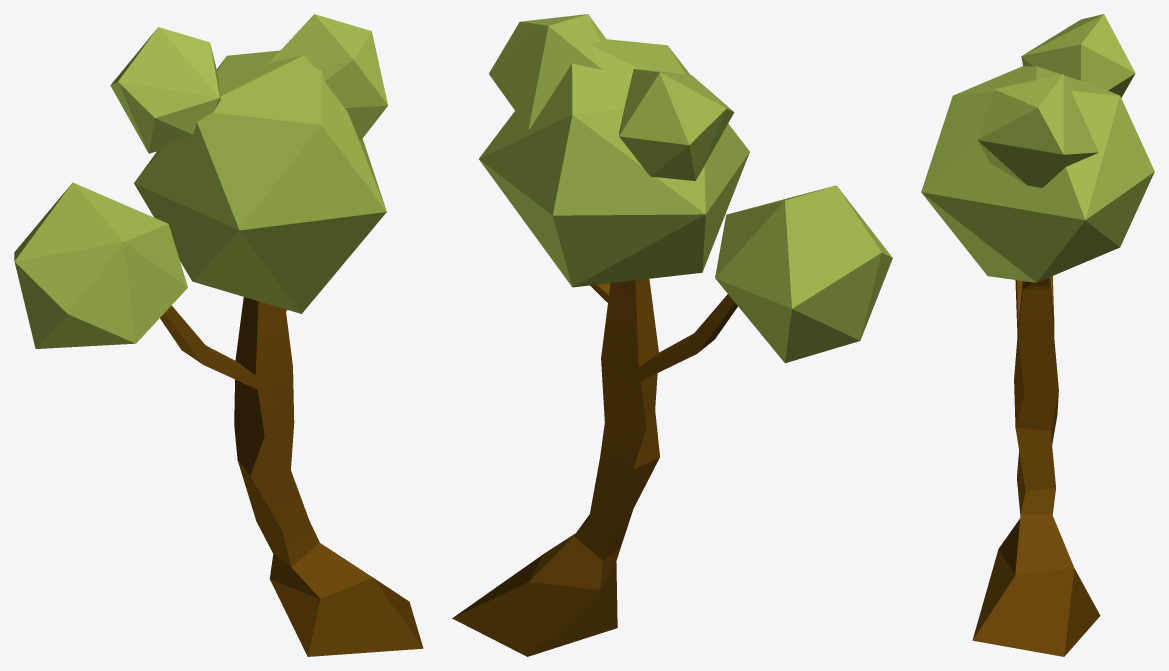
3 renders of one model, left to right at view 1: azimuth 30°, elevation 25°; view 2: azimuth 150°, elevation 25°; view 3: azimuth 270°, elevation 25°, orthographic. The views are drawn at different scales.
Visible parts, largest first — view 1: Sphere_3_19, Branches_10, Sphere_91, Sphere_4_15, Sphere_5_14; view 2: Sphere_3_19, Branches_10, Sphere_91, Sphere_4_15, Sphere_5_14; view 3: Sphere_3_19, Branches_10, Sphere_5_14, Sphere_4_15.
Boxes of the visible parts, bbox=[...] form: Sphere_3_19: bbox=[134, 50, 386, 313]; Branches_10: bbox=[160, 297, 423, 656]; Sphere_91: bbox=[14, 182, 187, 348]; Sphere_4_15: bbox=[110, 27, 220, 153]; Sphere_5_14: bbox=[268, 14, 387, 141]; Sphere_3_19: bbox=[479, 38, 749, 287]; Branches_10: bbox=[452, 279, 737, 656]; Sphere_91: bbox=[715, 185, 892, 363]; Sphere_4_15: bbox=[619, 69, 734, 180]; Sphere_5_14: bbox=[489, 14, 605, 129]; Sphere_3_19: bbox=[921, 66, 1154, 282]; Branches_10: bbox=[972, 276, 1100, 656]; Sphere_5_14: bbox=[977, 74, 1098, 187]; Sphere_4_15: bbox=[1021, 14, 1135, 97].
Bounding box in the file's own units: 501 × 715 × 279.
